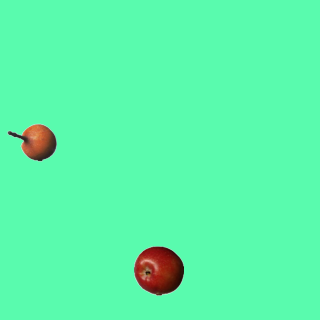Apple Braeburn: (133, 245, 183, 295)
Granadilla: (6, 117, 56, 167)
